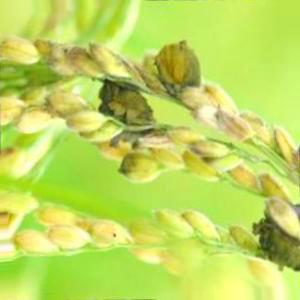Leaf_Scald: (97, 77, 153, 130), (256, 218, 300, 271), (156, 44, 203, 92)
